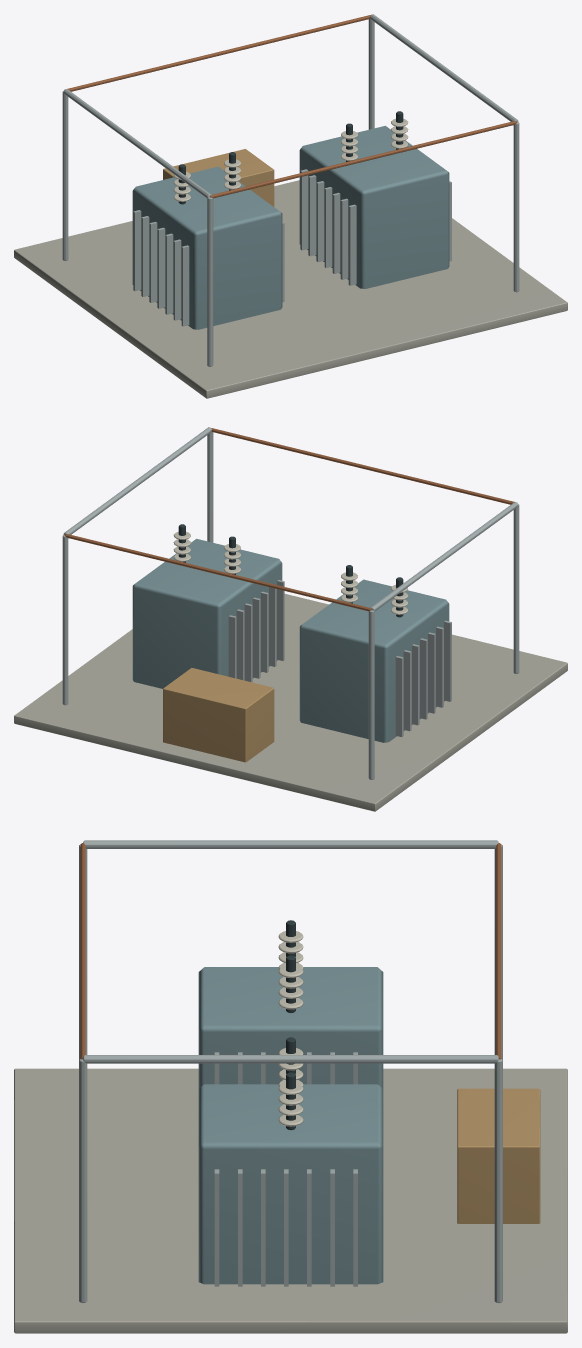
Rendered from Substation.glb.
3 views of the same model, one above another, from view 1: azimuth 30°, elevation 25°; view 2: azimuth 150°, elevation 25°; view 3: azimuth 270°, elevation 25° (orthographic). The views are drawn at different scales.
Visible parts, largest first — view 1: Substation pad, Transformer.001, Transformer, Control hut, Power bar, Power bar.001, Gantries, Gantries.002, Gantries.001, Gantry crossbar, Gantry crossbar.001, Cooling fin (+14 smaller); view 2: Substation pad, Transformer, Transformer.001, Control hut, Power bar.001, Power bar, Gantries.001, Gantries.003, Gantries, Gantry crossbar, Gantry crossbar.001, Gantries.002 (+14 smaller); view 3: Substation pad, Transformer.001, Transformer, Control hut, Gantry crossbar.001, Gantry crossbar, Gantries.002, Gantries.003, Power bar, Power bar.001, Gantries, Gantries.001 (+1 smaller).
Boxes of the visible parts, <box> form: Substation pad: <box>14,180,567,398</box>; Transformer.001: <box>299,125,449,288</box>; Transformer: <box>132,166,282,329</box>; Control hut: <box>163,149,274,206</box>; Power bar: <box>210,121,516,198</box>; Power bar.001: <box>67,15,370,91</box>; Gantries: <box>207,197,213,366</box>; Gantries.002: <box>513,122,519,292</box>; Gantries.001: <box>62,91,68,261</box>; Gantry crossbar: <box>63,89,211,198</box>; Gantry crossbar.001: <box>370,14,518,122</box>; Cooling fin: <box>181,222,284,326</box>; Substation pad: <box>14,594,567,811</box>; Transformer: <box>299,579,449,742</box>; Transformer.001: <box>132,538,282,688</box>; Control hut: <box>163,668,274,762</box>; Power bar.001: <box>65,534,371,611</box>; Power bar: <box>211,428,514,504</box>; Gantries.001: <box>368,610,374,779</box>; Gantries.003: <box>62,535,68,705</box>; Gantries: <box>513,504,519,674</box>; Gantry crossbar: <box>370,502,518,611</box>; Gantry crossbar.001: <box>63,427,211,535</box>; Gantries.002: <box>207,432,213,542</box>; Substation pad: <box>14,1068,567,1333</box>; Transformer.001: <box>198,1084,383,1284</box>; Transformer: <box>198,967,383,1088</box>; Control hut: <box>457,1088,540,1223</box>; Gantry crossbar.001: <box>83,1055,498,1063</box>; Gantry crossbar: <box>83,840,498,848</box>; Gantries.002: <box>79,1059,87,1303</box>; Gantries.003: <box>494,1059,502,1303</box>; Power bar: <box>80,843,85,1059</box>; Power bar.001: <box>496,843,501,1059</box>; Gantries: <box>79,844,87,1059</box>; Gantries.001: <box>494,844,502,1059</box>.
Bounding box in the file's own units: 13 × 6.19 × 12.
